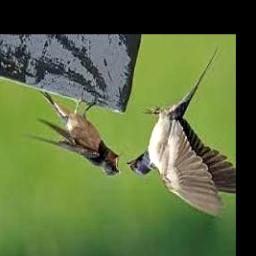Swallow: (127, 46, 236, 218), (25, 91, 123, 177)
